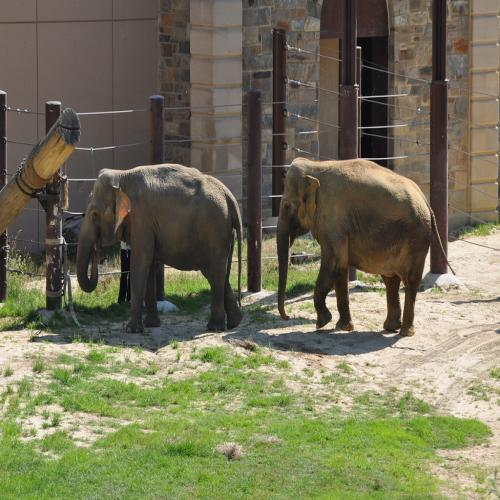asian_elephant-endangered: (276, 154, 456, 334), (76, 163, 243, 333)
